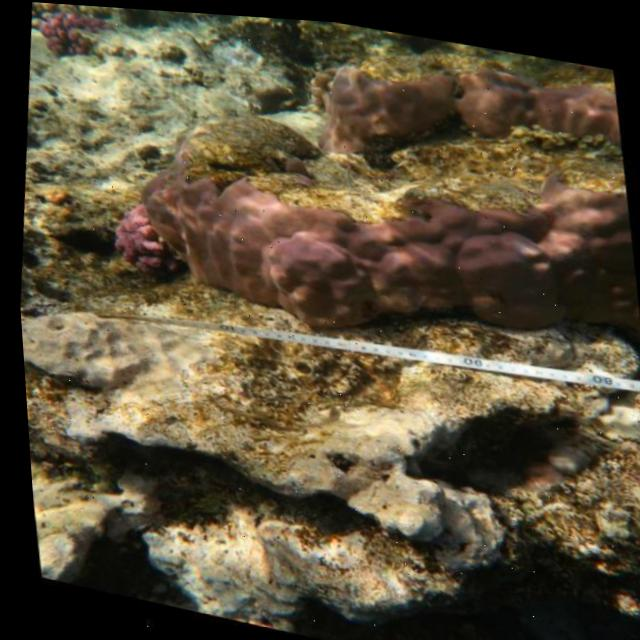Bleached Coral: (105, 194, 194, 292), (34, 2, 127, 73)
